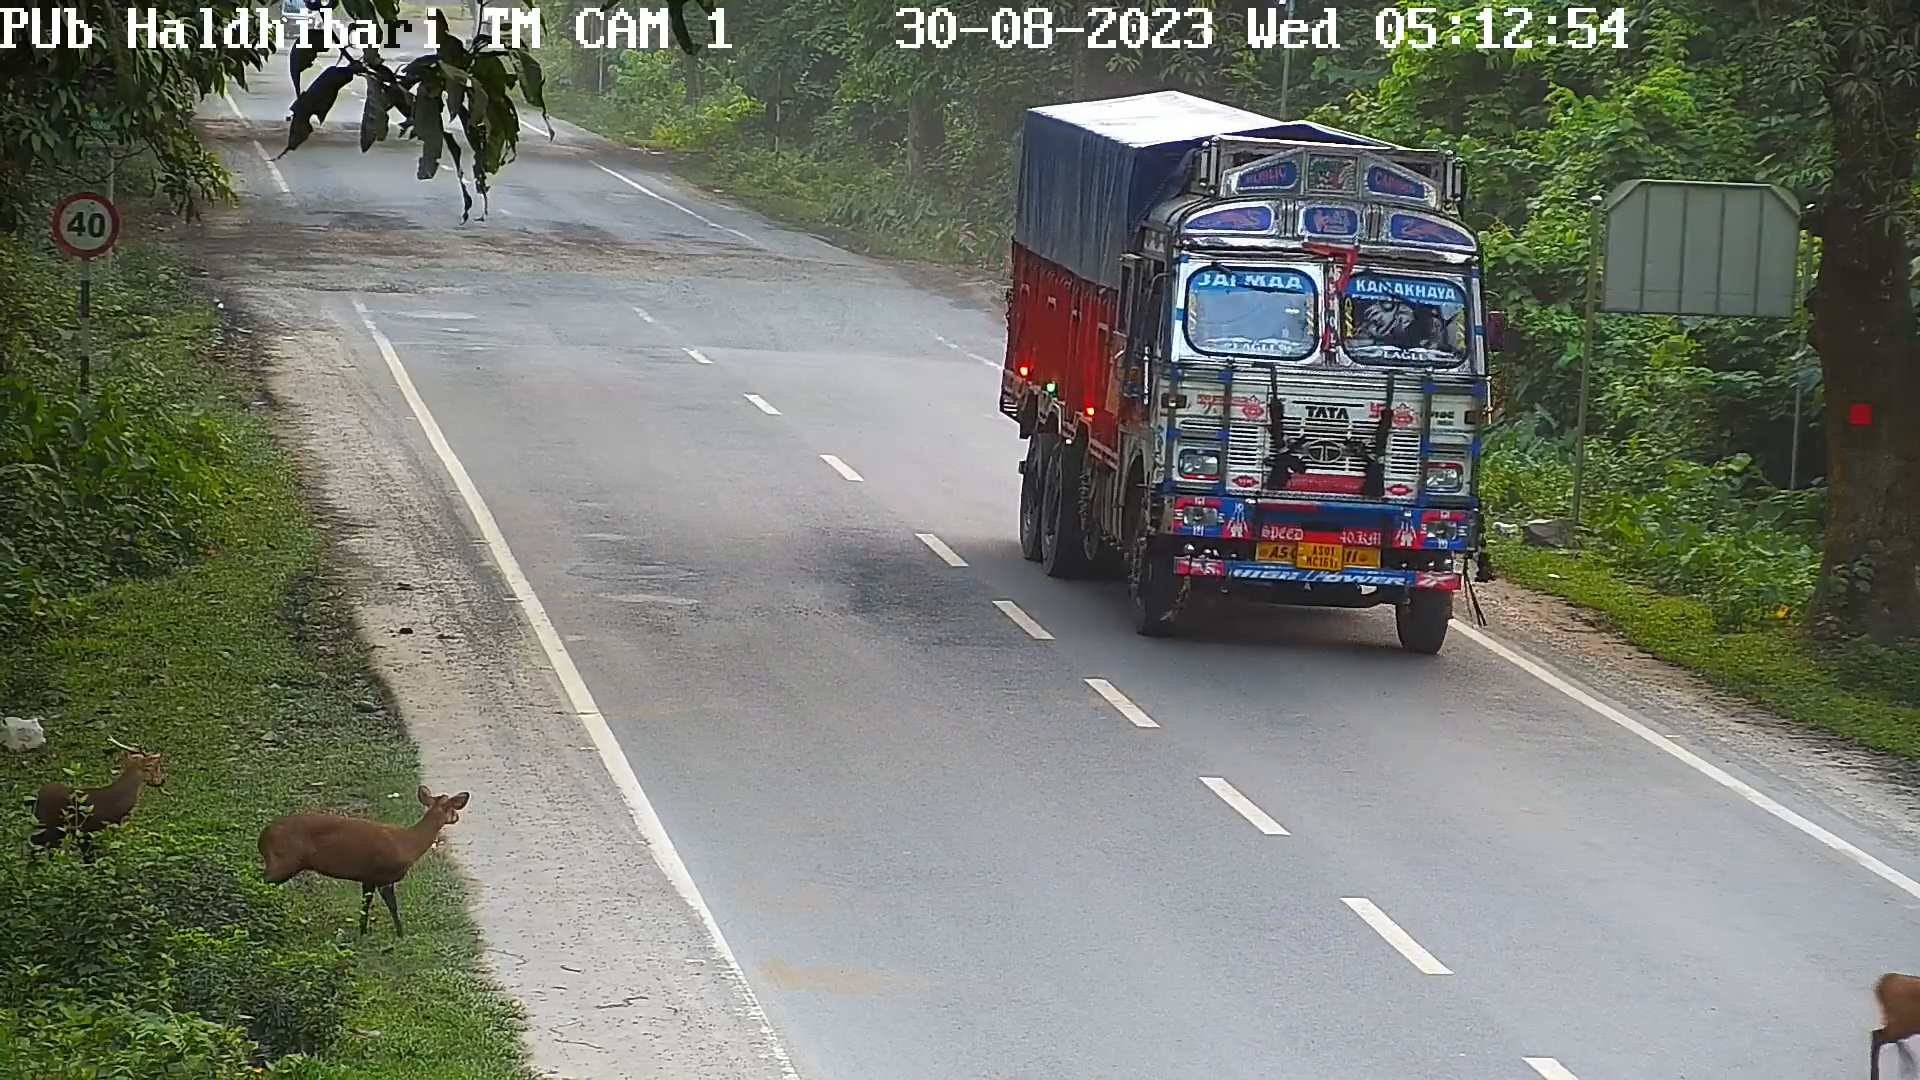deers: (251, 786, 471, 934), (24, 746, 170, 858), (1866, 949, 1920, 1080), (7, 753, 33, 756)
